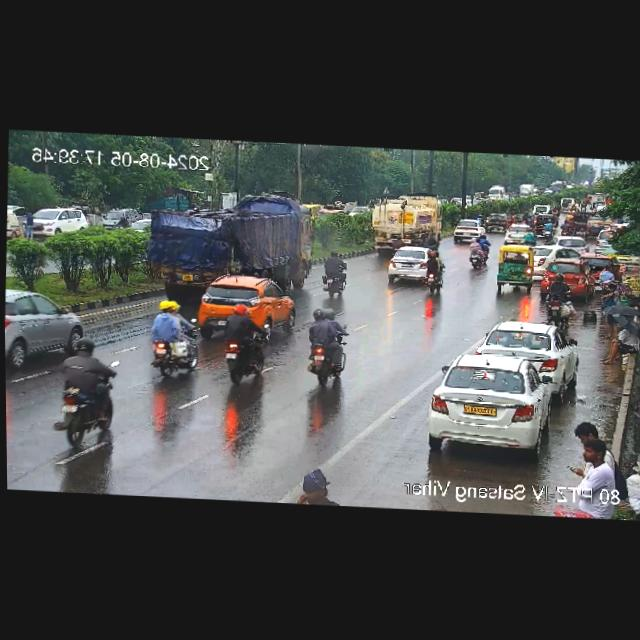car: (422, 351, 569, 455), (4, 286, 85, 379), (192, 274, 300, 336), (480, 320, 574, 381), (22, 204, 88, 240), (493, 245, 537, 289), (537, 261, 593, 295), (386, 243, 426, 285), (532, 244, 584, 265), (451, 218, 488, 242), (502, 223, 535, 244), (578, 250, 618, 267), (552, 234, 589, 250), (594, 225, 612, 254), (480, 216, 509, 233), (585, 215, 605, 234), (558, 194, 575, 211), (575, 210, 587, 231)
motorcycle: (56, 339, 111, 442), (141, 297, 196, 377), (218, 301, 271, 380), (300, 305, 346, 388), (314, 249, 352, 294), (548, 270, 574, 323), (425, 249, 445, 294), (467, 232, 490, 269), (560, 212, 576, 233), (532, 215, 544, 234), (571, 198, 586, 213), (544, 219, 554, 240), (533, 203, 550, 214), (521, 211, 534, 224), (552, 203, 559, 218), (512, 212, 517, 223)
person: (567, 444, 618, 494), (288, 467, 353, 506), (598, 317, 640, 364), (619, 458, 640, 506), (573, 420, 605, 445), (595, 264, 617, 292)
truck: (129, 199, 319, 292), (358, 192, 447, 251)
